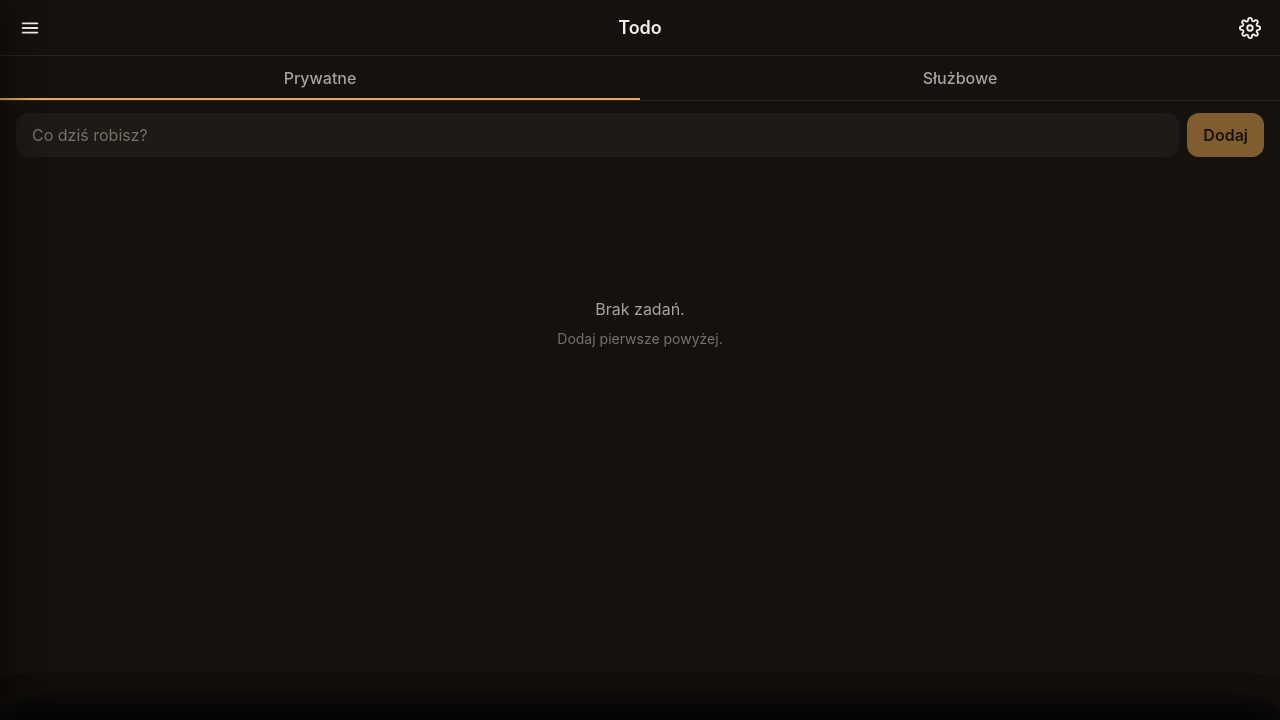
Test case: MainList × real category repo end-to-end › deleting a category through the manage sheet removes the tab and reassigns its todos
Check: the tab "Służbowe" is shown, box top-left (640, 56), bottom-right (1279, 100)
What coordinates should you click on to do the following:
click the button named "Otwórz menu"
I would click on:
 (30, 28)
Its box is top-left (8, 6), bottom-right (52, 50).
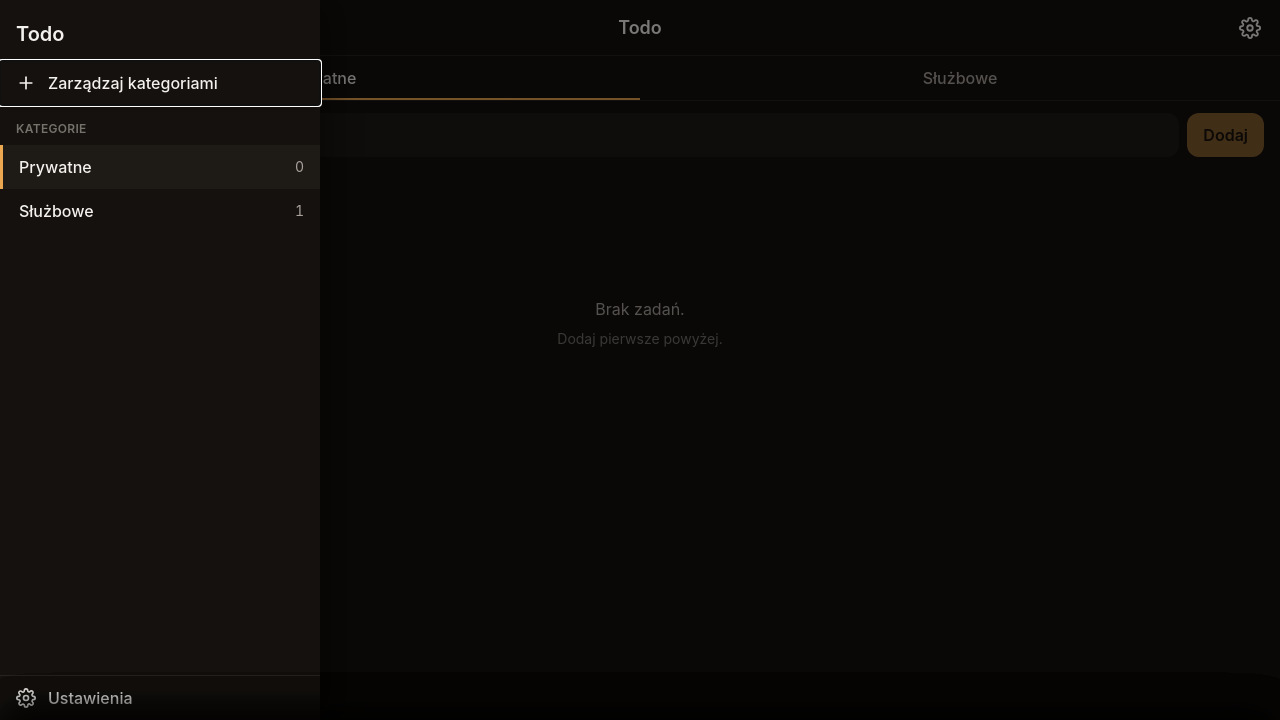
What coordinates should you click on to do the following:
click the button "Zarządzaj kategoriami"
I would click on:
 (160, 83)
Its box is top-left (0, 61), bottom-right (320, 105).
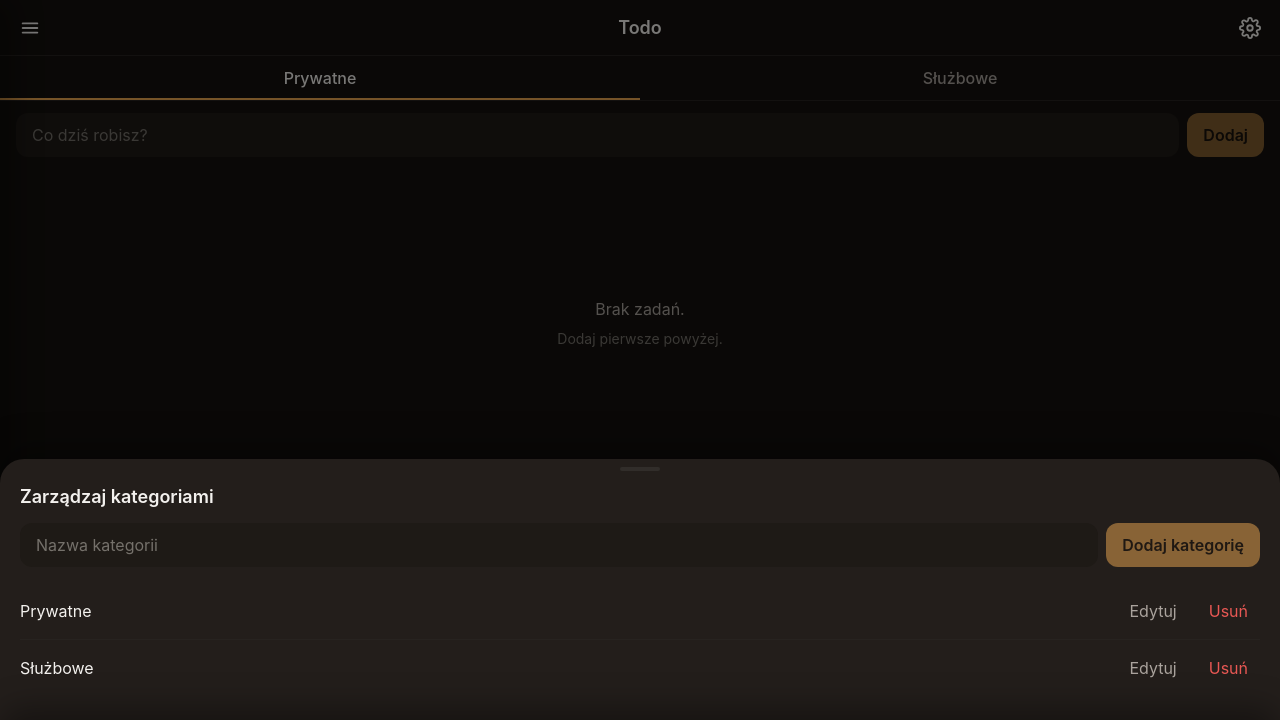
// The last "Usuń" in document order belongs to the Służbowe row.
What coordinates should you click on to do the following:
click the 2nd button "Usuń"
I would click on:
 (1228, 668)
Its box is top-left (1197, 648), bottom-right (1260, 688).
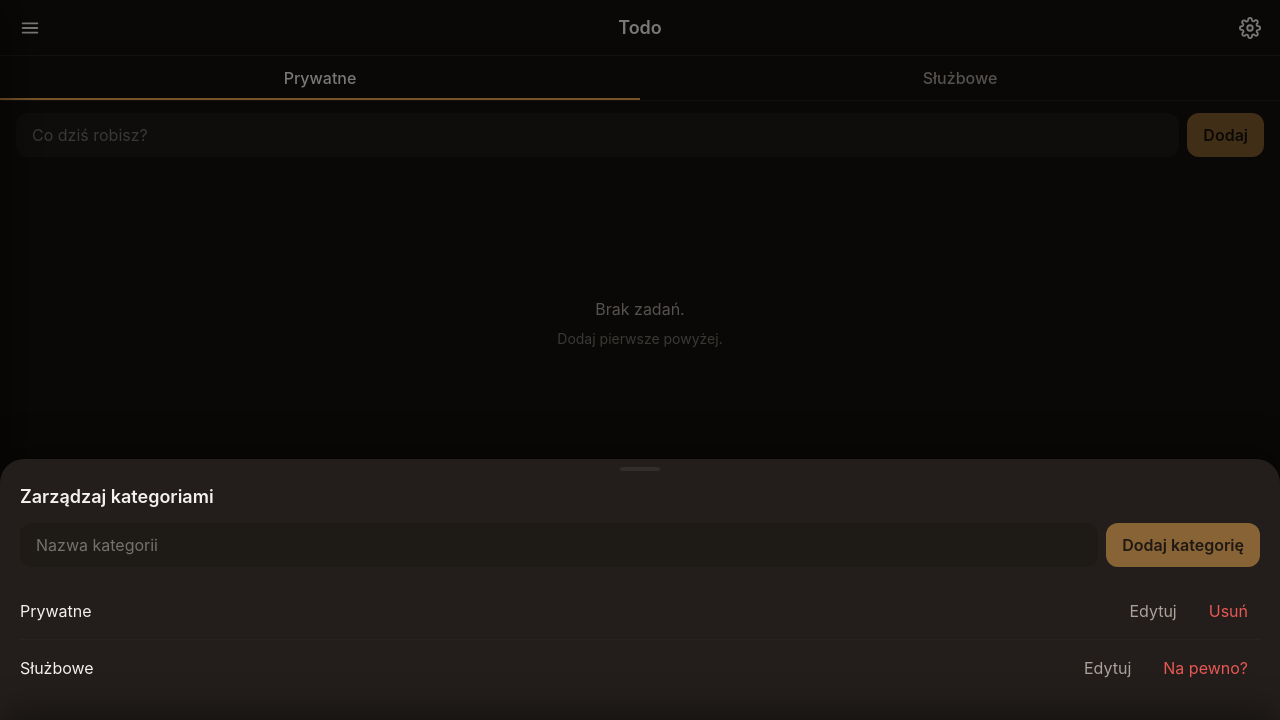
What coordinates should you click on to do the following:
click the button "Na pewno?"
I would click on:
 (1206, 668)
Its box is top-left (1151, 648), bottom-right (1260, 688).
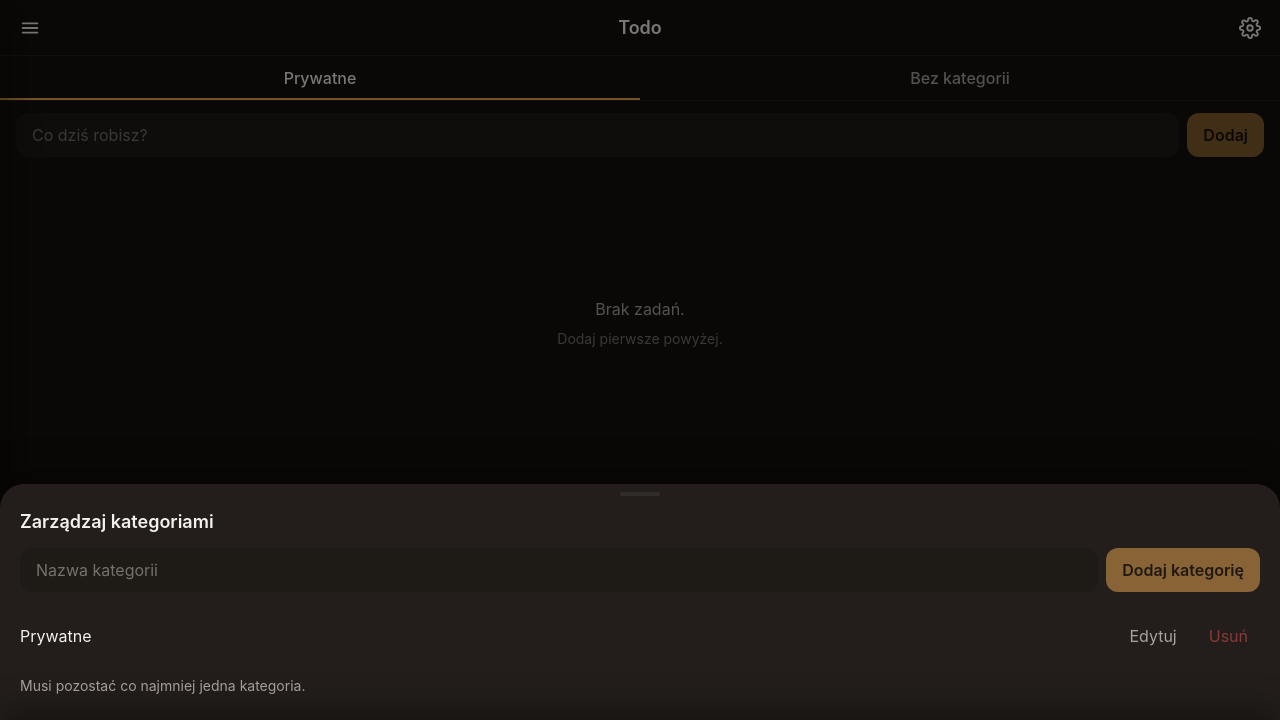
Check: the tab "Służbowe" is gone
